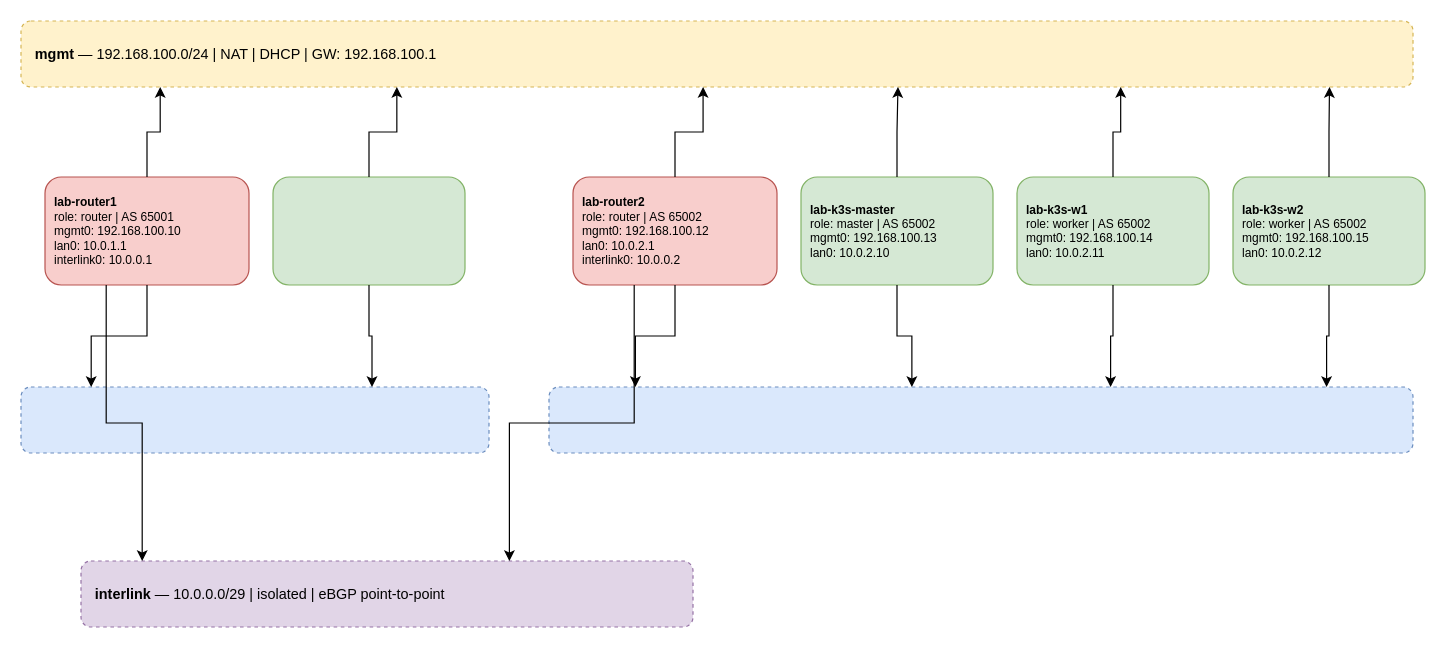
The diagram is 1446 pixels wide and 648 high, and some of its shapes have lost their labels. Here are the shapes that lost their labels. From the top down, the centre of each, then its label:
At (x=368, y=230): "lab-k3s-single role: single | AS 65001 mgmt0: 192.168.100.11 lan0: 10.0.1.10".
At (x=254, y=419): "as65001 — 10.0.1.0/24 | isolated".
At (x=980, y=419): "as65002 — 10.0.2.0/24 | isolated".
